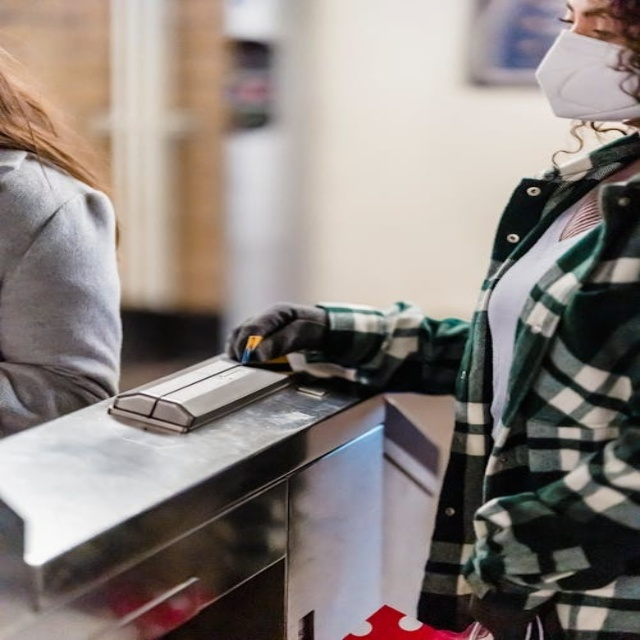Guantes: (219, 295, 332, 364)
Mascara: (533, 26, 637, 121)
Sin_gafas: (545, 3, 632, 38)
